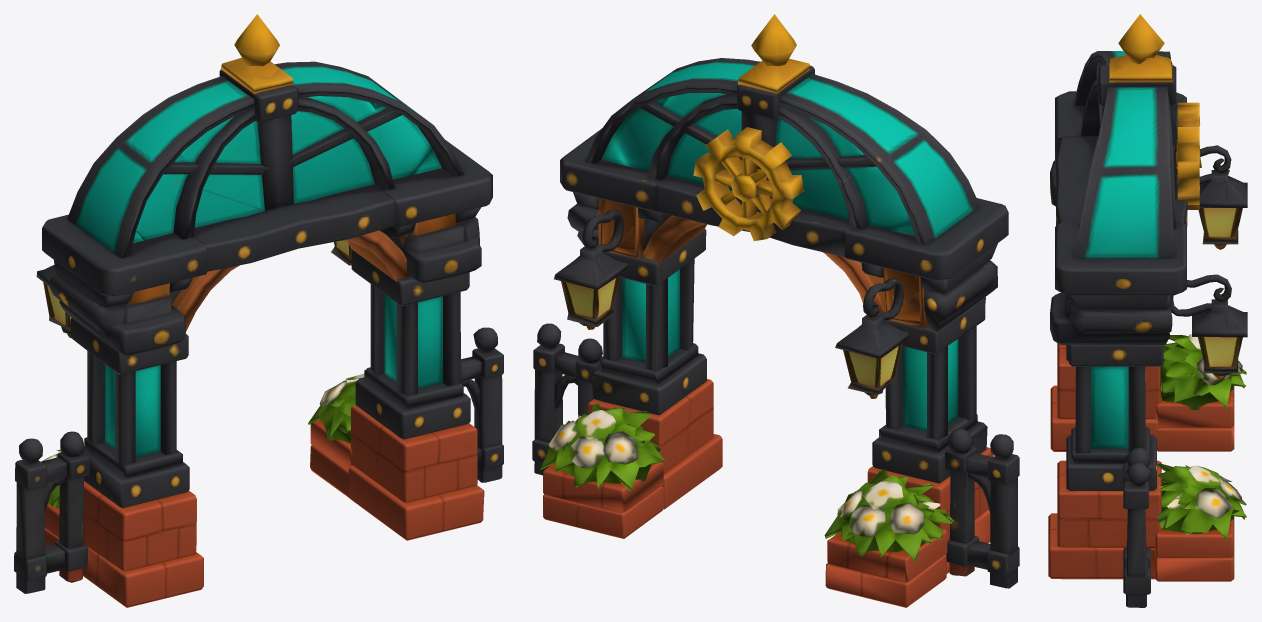
Rendered from gate_tech.glb.
The picture shows the model from 3 angles, left to right: view 1: azimuth 30°, elevation 25°; view 2: azimuth 150°, elevation 25°; view 3: azimuth 270°, elevation 25°; orthographic projection. The views are drawn at different scales.
Visible parts, largest first — view 1: geometry_0; view 2: geometry_0; view 3: geometry_0.
Boxes of the visible parts, <box> form: geometry_0: <box>14,14,503,607</box>; geometry_0: <box>532,14,1019,607</box>; geometry_0: <box>1048,14,1247,607</box>.
Size of the model in its own units: 0.9204 by 0.9541 by 0.355.
1 material, 1 textured.
